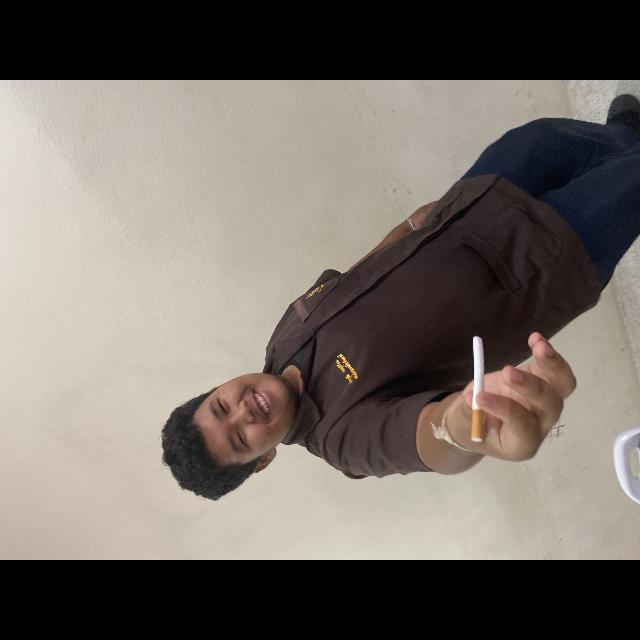rokok: (460, 329, 490, 443)
